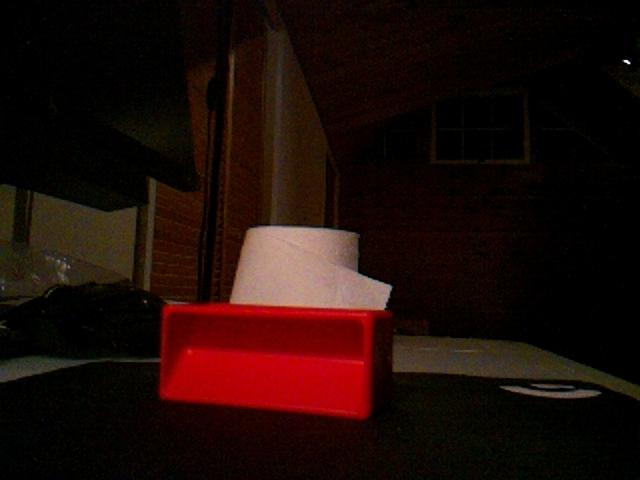red: (157, 301, 395, 422)
